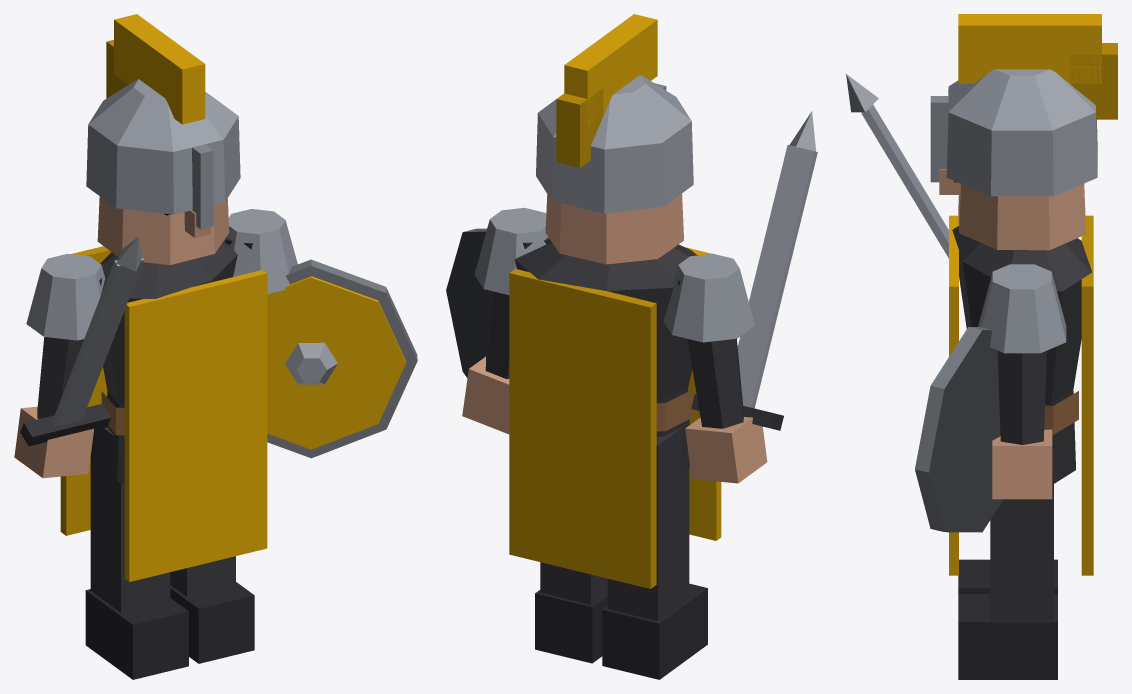
Rendered from hero_fighter.glb.
3 renders of one model, left to right at view 1: azimuth 30°, elevation 25°; view 2: azimuth 150°, elevation 25°; view 3: azimuth 270°, elevation 25°, orthographic. The views are drawn at different scales.
Visible parts, largest first — view 1: hero_fighter_torso, hero_fighter_head, hero_fighter_shield, hero_fighter_leg_r, hero_fighter_arm_r, hero_fighter_sword, hero_fighter_leg_l, hero_fighter_arm_l; view 2: hero_fighter_torso, hero_fighter_head, hero_fighter_arm_r, hero_fighter_leg_r, hero_fighter_sword, hero_fighter_arm_l, hero_fighter_leg_l, hero_fighter_shield; view 3: hero_fighter_head, hero_fighter_torso, hero_fighter_leg_l, hero_fighter_arm_l, hero_fighter_shield, hero_fighter_sword, hero_fighter_leg_r.
Boxes of the visible parts, left/top/right/bottom form: hero_fighter_torso: left=60, top=240, right=267, bottom=581; hero_fighter_head: left=86, top=14, right=240, bottom=264; hero_fighter_shield: left=267, top=259, right=417, bottom=458; hero_fighter_leg_r: left=85, top=427, right=188, bottom=679; hero_fighter_arm_r: left=14, top=253, right=105, bottom=478; hero_fighter_sword: left=20, top=237, right=143, bottom=446; hero_fighter_leg_l: left=170, top=556, right=254, bottom=663; hero_fighter_arm_l: left=224, top=209, right=297, bottom=293; hero_fighter_torso: left=509, top=242, right=721, bottom=588; hero_fighter_head: left=536, top=14, right=693, bottom=264; hero_fighter_arm_r: left=663, top=253, right=767, bottom=483; hero_fighter_leg_r: left=602, top=427, right=707, bottom=679; hero_fighter_sword: left=691, top=111, right=817, bottom=430; hero_fighter_arm_l: left=462, top=207, right=551, bottom=434; hero_fighter_leg_l: left=535, top=562, right=607, bottom=663; hero_fighter_shield: left=446, top=228, right=492, bottom=377; hero_fighter_head: left=930, top=14, right=1117, bottom=250; hero_fighter_torso: left=949, top=215, right=1093, bottom=575; hero_fighter_leg_l: left=958, top=439, right=1057, bottom=679; hero_fighter_arm_l: left=978, top=264, right=1066, bottom=499; hero_fighter_shield: left=915, top=327, right=1003, bottom=532; hero_fighter_sword: left=846, top=74, right=948, bottom=258; hero_fighter_leg_r: left=958, top=559, right=1057, bottom=593.
Bounding box in the file's own units: 1.12 × 1.79 × 0.7024.
